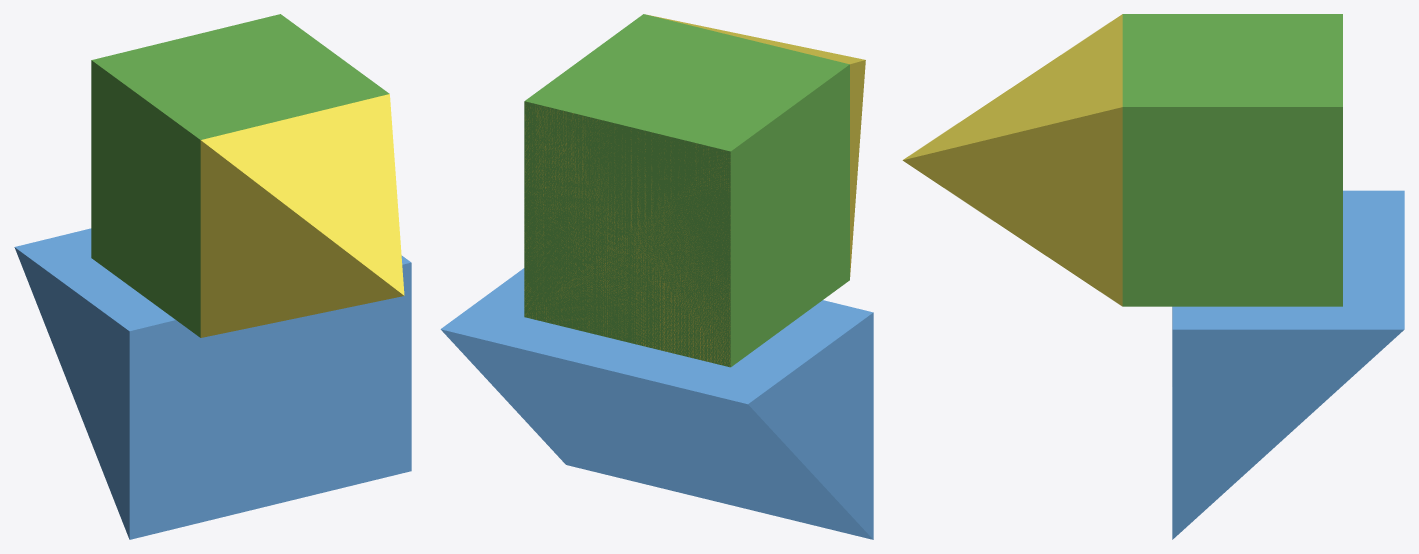
The model's file is trainengine.obj.
3 renders of one model, left to right at view 1: azimuth 30°, elevation 25°; view 2: azimuth 150°, elevation 25°; view 3: azimuth 270°, elevation 25°, orthographic. The views are drawn at different scales.
Parts seen in each view (by area): view 1: Object.4, Object.1, Object.3; view 2: Object.1, Object.4, Object.2, Object.3; view 3: Object.1, Object.4, Object.3.
Part boxes in pixels (x1=…): Object.4: x1=14, y1=228, x2=411, y2=539; Object.1: x1=91, y1=14, x2=389, y2=337; Object.3: x1=200, y1=94, x2=404, y2=337; Object.1: x1=524, y1=14, x2=849, y2=367; Object.4: x1=440, y1=268, x2=873, y2=539; Object.2: x1=524, y1=104, x2=730, y2=366; Object.3: x1=647, y1=14, x2=865, y2=276; Object.1: x1=1122, y1=14, x2=1342, y2=306; Object.4: x1=1172, y1=190, x2=1404, y2=539; Object.3: x1=902, y1=14, x2=1122, y2=306.
Size of the model in its own units: 59.62 by 82.16 by 91.21.
